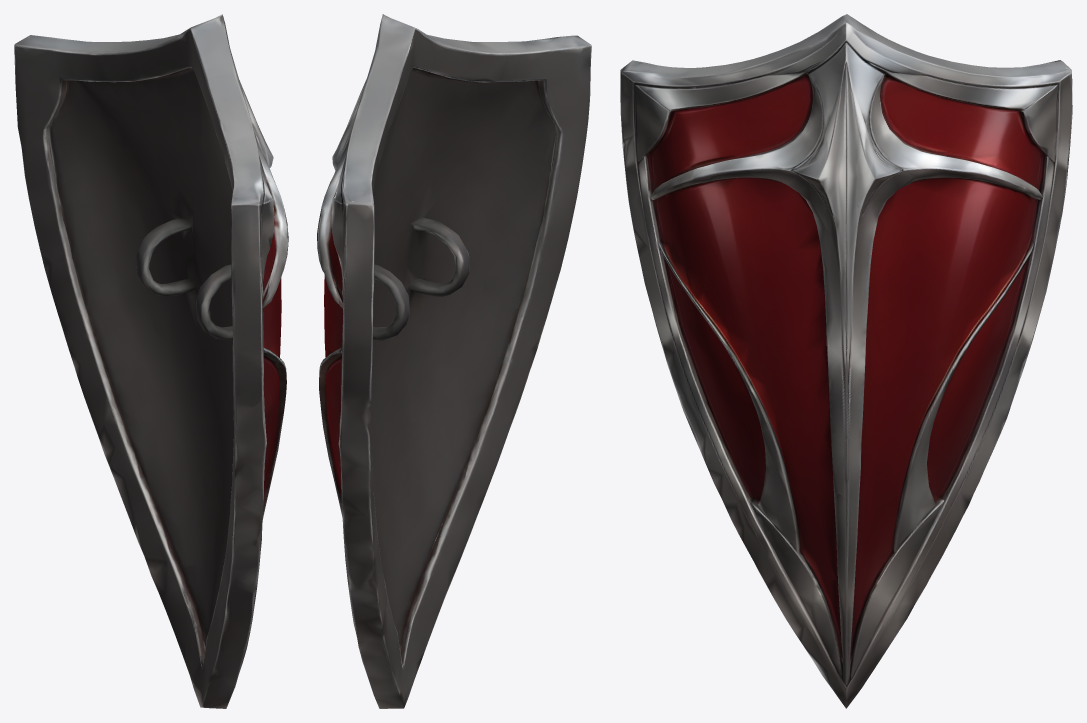
Rendered from s_garrison.glb.
3 views of the same model, side by side, from view 1: azimuth 30°, elevation 25°; view 2: azimuth 150°, elevation 25°; view 3: azimuth 270°, elevation 25° (orthographic).
Parts seen in each view (by area): view 1: tripo_node_6972010b-9ac6-4179-b8be-ae2deaed2834; view 2: tripo_node_6972010b-9ac6-4179-b8be-ae2deaed2834; view 3: tripo_node_6972010b-9ac6-4179-b8be-ae2deaed2834.
Boxes of the visible parts, x1=… form: tripo_node_6972010b-9ac6-4179-b8be-ae2deaed2834: x1=14, y1=14, x2=288, y2=708; tripo_node_6972010b-9ac6-4179-b8be-ae2deaed2834: x1=317, y1=14, x2=591, y2=708; tripo_node_6972010b-9ac6-4179-b8be-ae2deaed2834: x1=620, y1=14, x2=1072, y2=708.
Bounding box in the file's own units: 0.205 × 1 × 0.5991.
Materials: 1 (1 with a texture image).
